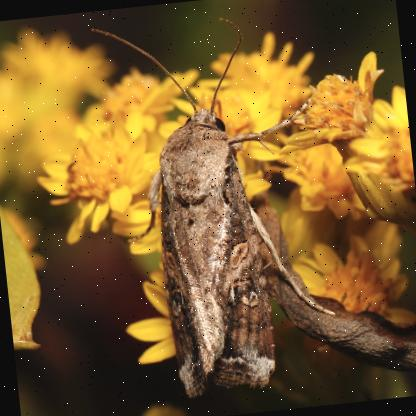Fall Armyworm Moth: (86, 0, 346, 408)
